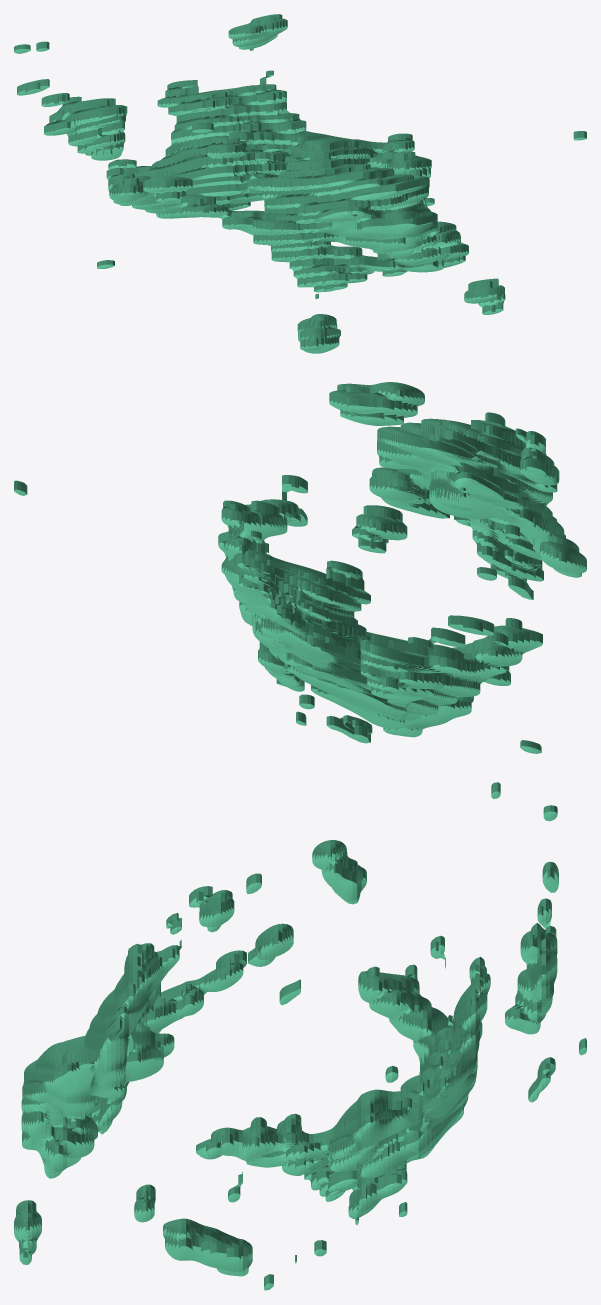
File: ngc3132_isosurface_350.glb
3 views of the same model, one above another, from view 1: azimuth 30°, elevation 25°; view 2: azimuth 150°, elevation 25°; view 3: azimuth 270°, elevation 25° (orthographic). The views are drawn at different scales.
Bounding box in the file's own units: 0.9585 × 0.5715 × 0.7457.
